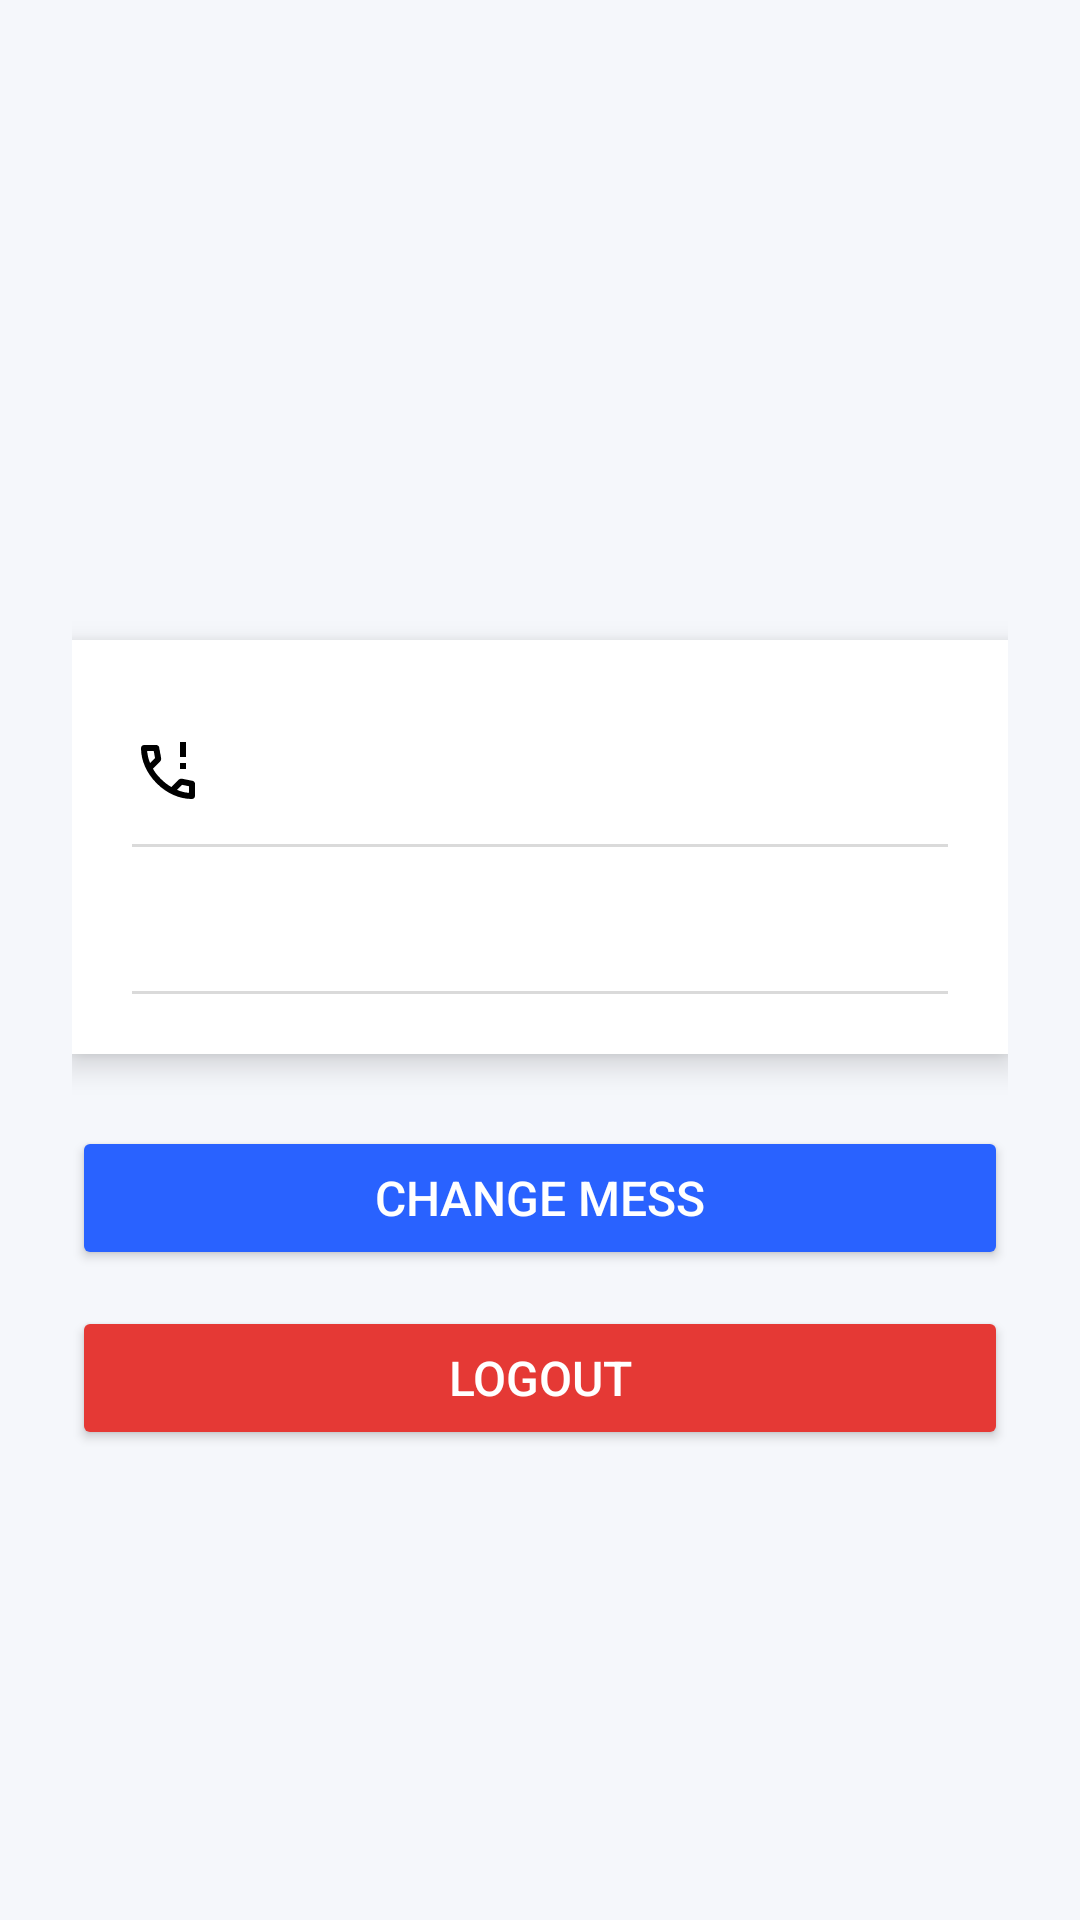

Icons on this 1080×1920 Android screen, each with the point to tap as (x=x, y=y):
Phone: (x=168, y=770)
